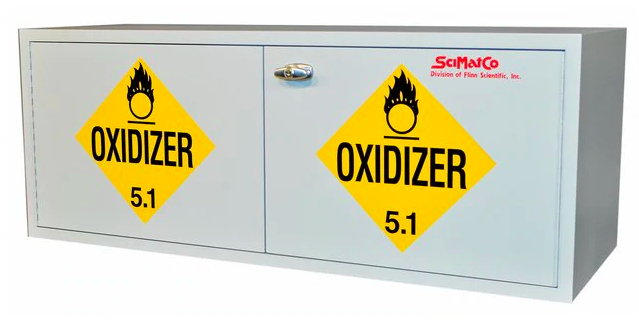Oxidizer: (316, 65, 498, 253), (74, 57, 216, 223)
